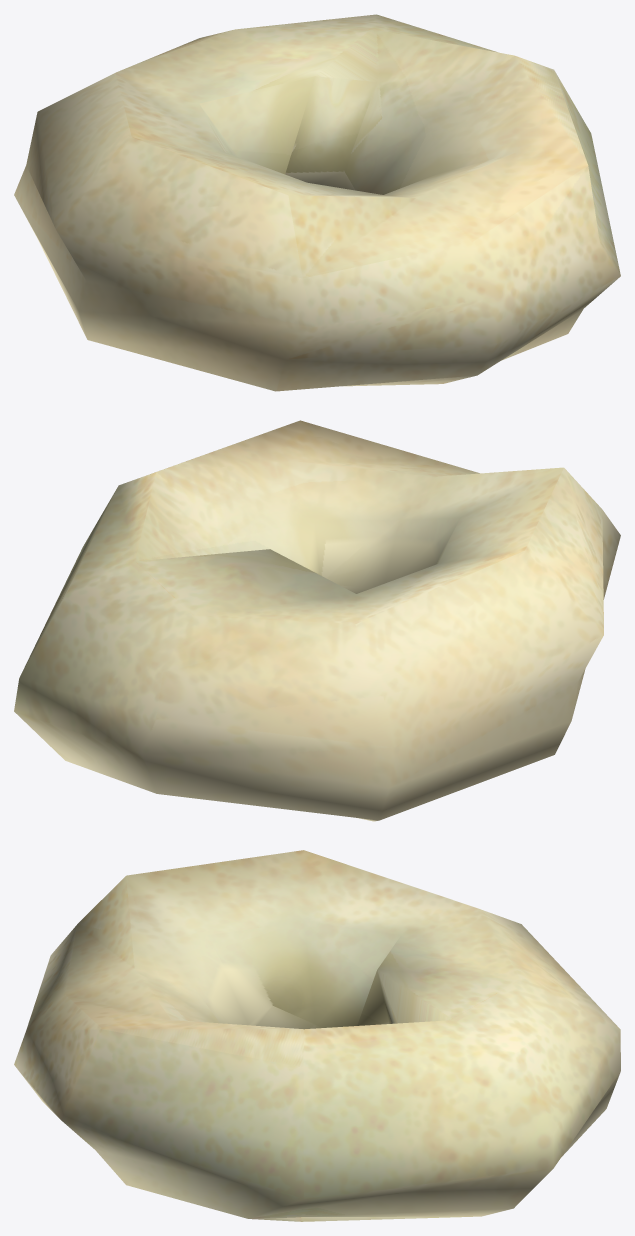
The model's file is PowderedDonut.glb.
The picture shows the model from 3 angles, top to bottom: view 1: azimuth 30°, elevation 25°; view 2: azimuth 150°, elevation 25°; view 3: azimuth 270°, elevation 25°; orthographic projection. The views are drawn at different scales.
Visible parts, largest first — view 1: Powdered; view 2: Powdered; view 3: Powdered.
Boxes of the visible parts, bbox=[...] form: Powdered: bbox=[14, 14, 620, 391]; Powdered: bbox=[14, 420, 620, 821]; Powdered: bbox=[14, 850, 620, 1221].
Bounding box in the file's own units: 0.5068 × 0.2145 × 0.5417.
Materials: 1 (1 with a texture image).
